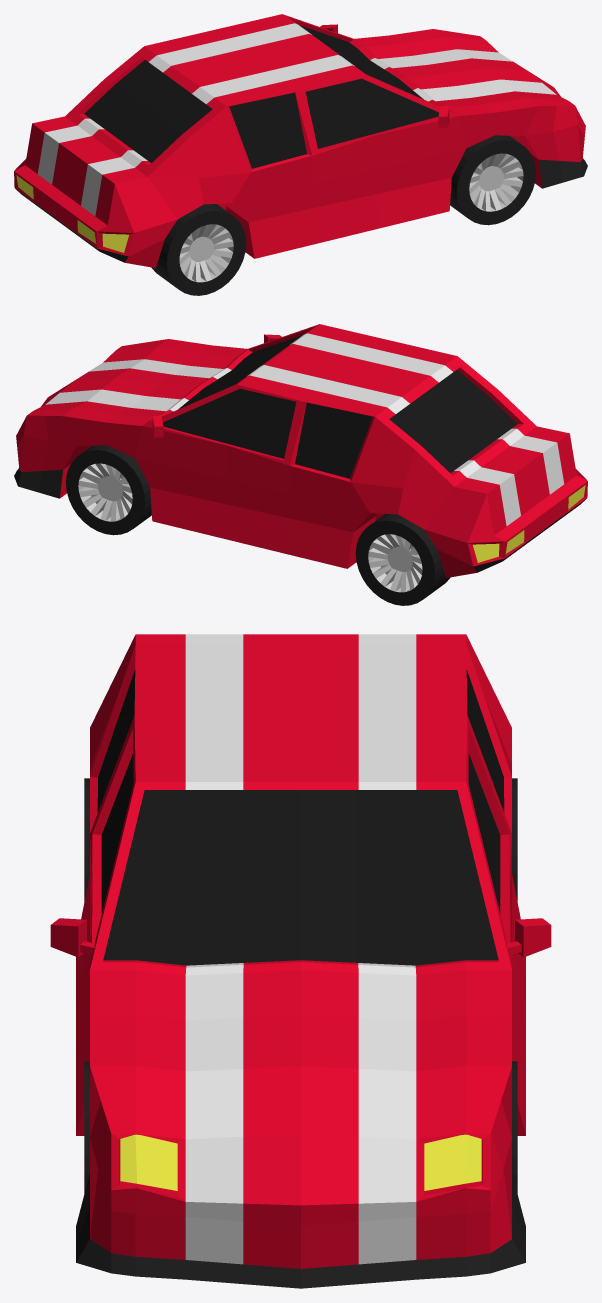
The model's file is car2.fbx.
The picture shows the model from 3 angles, top to bottom: view 1: azimuth 30°, elevation 25°; view 2: azimuth 150°, elevation 25°; view 3: azimuth 270°, elevation 25°; orthographic projection. The views are drawn at different scales.
Parts seen in each view (by area): view 1: Cube; view 2: Cube; view 3: Cube.
Part boxes in pixels (box(x1,y1,x2,y2)): Cube: box(14, 14, 587, 295); Cube: box(14, 324, 587, 605); Cube: box(50, 634, 551, 1288).
Size of the model in its own units: 412 by 134 by 178.
